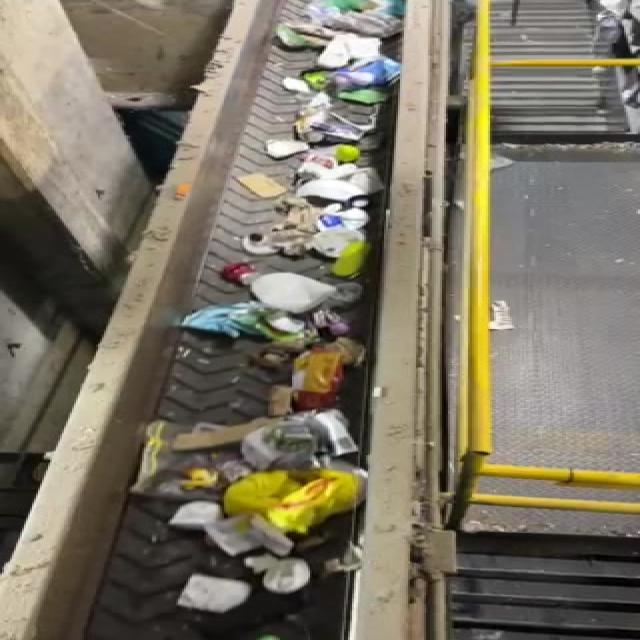paper: (165, 414, 376, 471), (230, 472, 368, 540), (163, 570, 259, 621), (292, 341, 346, 411)
pp: (255, 555, 318, 601)
